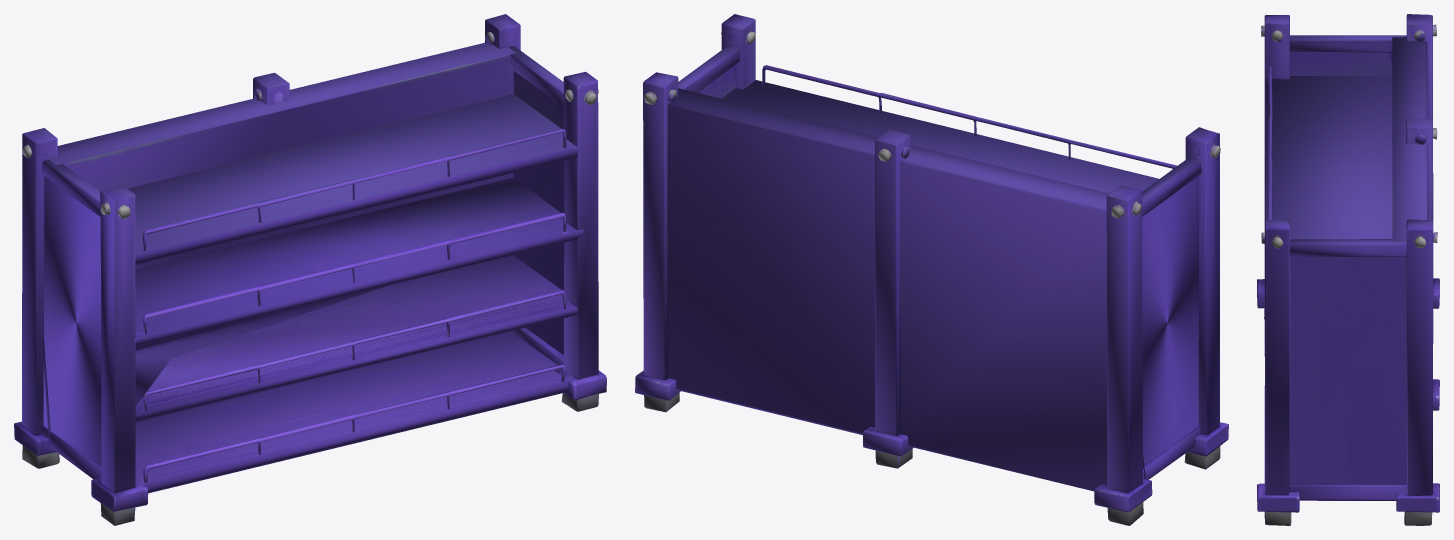
File: Purple_Industrial_She_0913012541.fbx
The picture shows the model from 3 angles, left to right: view 1: azimuth 30°, elevation 25°; view 2: azimuth 150°, elevation 25°; view 3: azimuth 270°, elevation 25°; orthographic projection. The views are drawn at different scales.
Parts seen in each view (by area): view 1: Mesh_0; view 2: Mesh_0; view 3: Mesh_0.
Part boxes in pixels (x1=…): Mesh_0: x1=14, y1=14, x2=606, y2=525; Mesh_0: x1=635, y1=14, x2=1228, y2=525; Mesh_0: x1=1257, y1=14, x2=1439, y2=525.
Bounding box in the file's own units: 100 × 63.48 × 35.35.
Materials: 1 (1 with a texture image).
